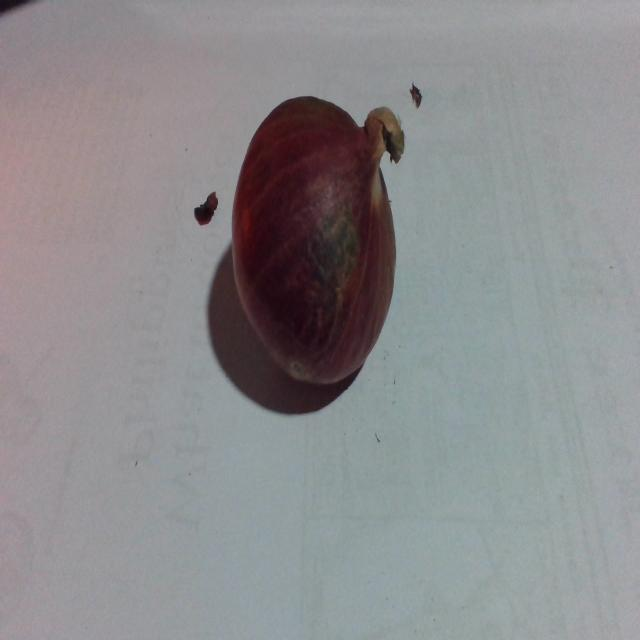onion: (229, 71, 408, 407)
